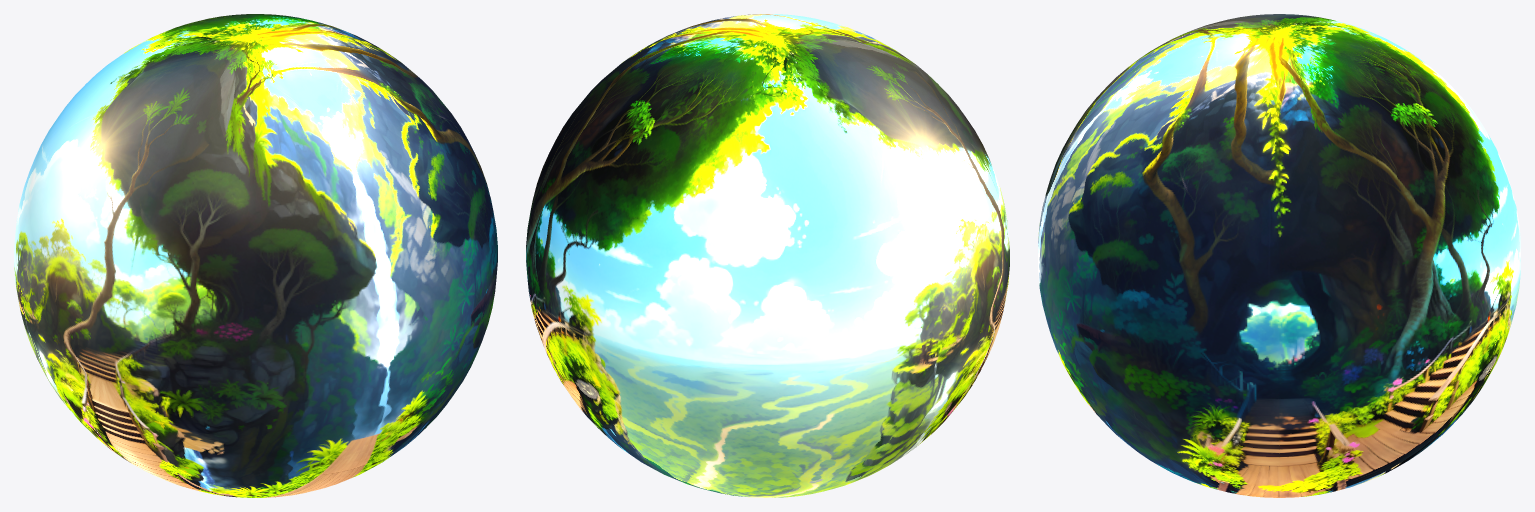
The model's file is jungle_01.glb.
3 views of the same model, side by side, from view 1: azimuth 30°, elevation 25°; view 2: azimuth 150°, elevation 25°; view 3: azimuth 270°, elevation 25° (orthographic).
Visible parts, largest first — view 1: Fairytale_Garden; view 2: Fairytale_Garden; view 3: Fairytale_Garden.
Boxes of the visible parts, box(x1,y1,x2,y2) form: Fairytale_Garden: box(14, 14, 497, 497); Fairytale_Garden: box(526, 14, 1009, 497); Fairytale_Garden: box(1038, 14, 1520, 497).
Bounding box in the file's own units: 0.2478 × 0.248 × 0.2473.
1 material, 1 textured.
